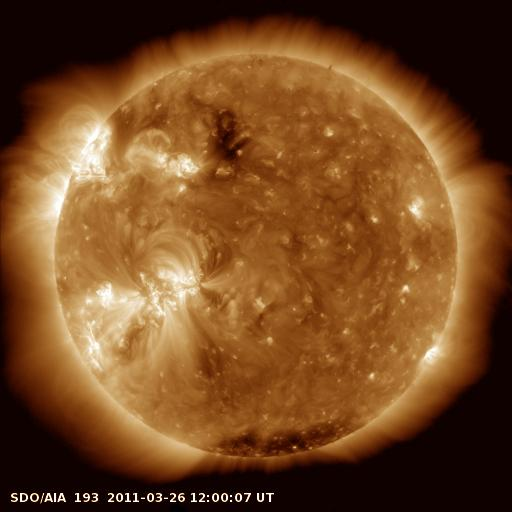coronal_hole: (195, 417, 360, 459), (208, 103, 251, 169)
